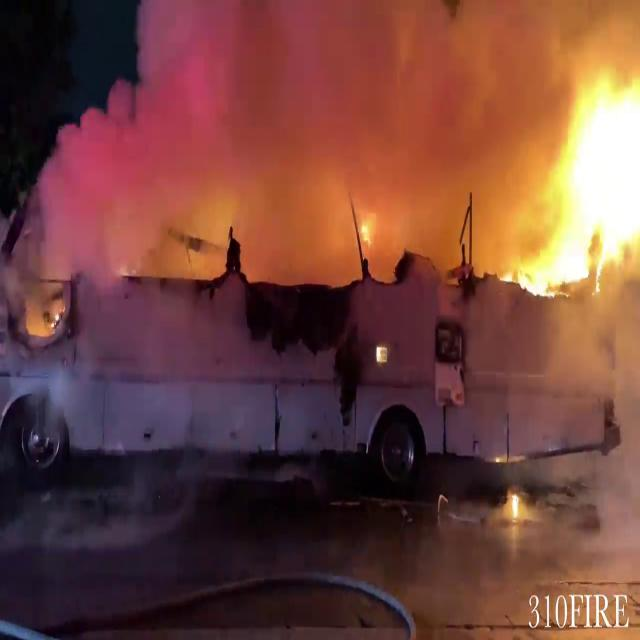Fire: (528, 51, 640, 296), (503, 485, 527, 527)
